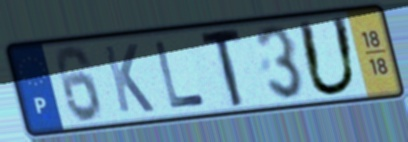3: (253, 22, 309, 103)
6: (54, 43, 104, 127)
K: (100, 41, 157, 116)
L: (151, 39, 208, 111)
T: (198, 24, 246, 110)
U: (294, 14, 362, 99)
